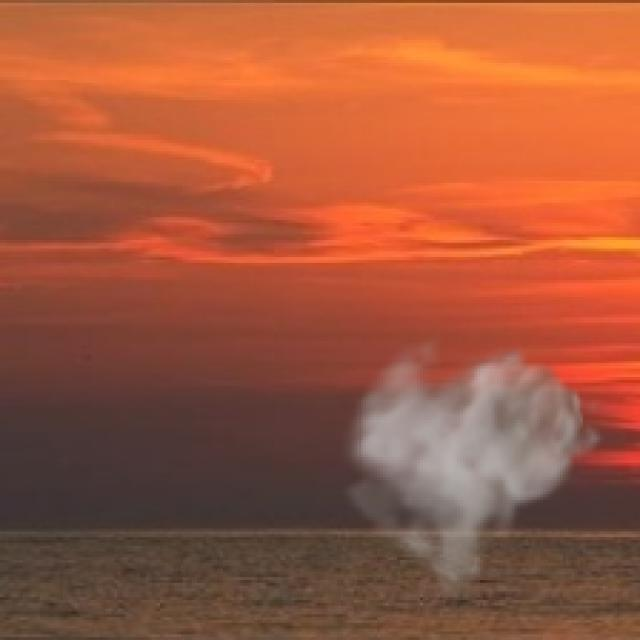Smoke: (337, 323, 606, 606)
